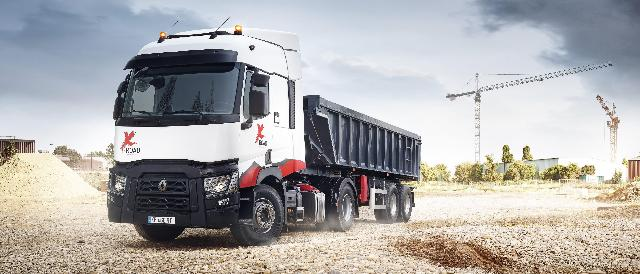truck: (89, 21, 425, 245)
